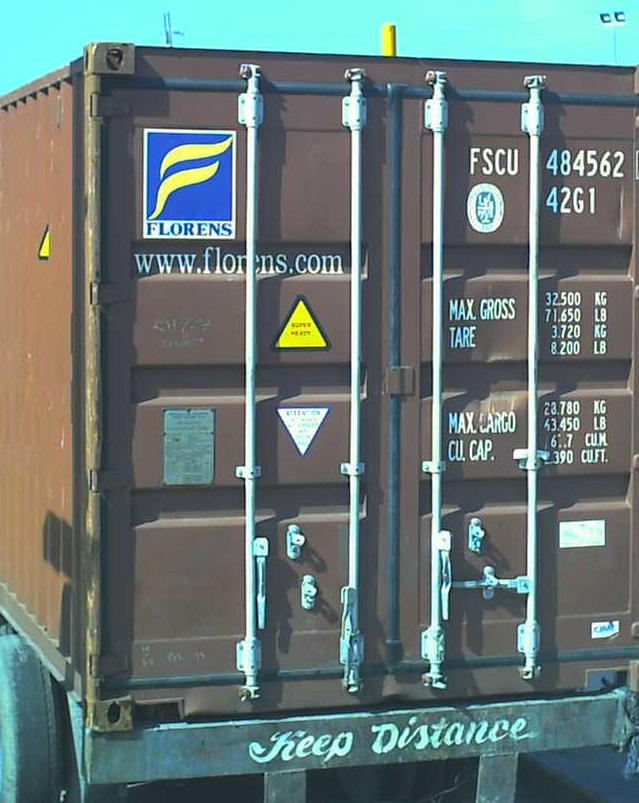container_door: (82, 42, 637, 726)
